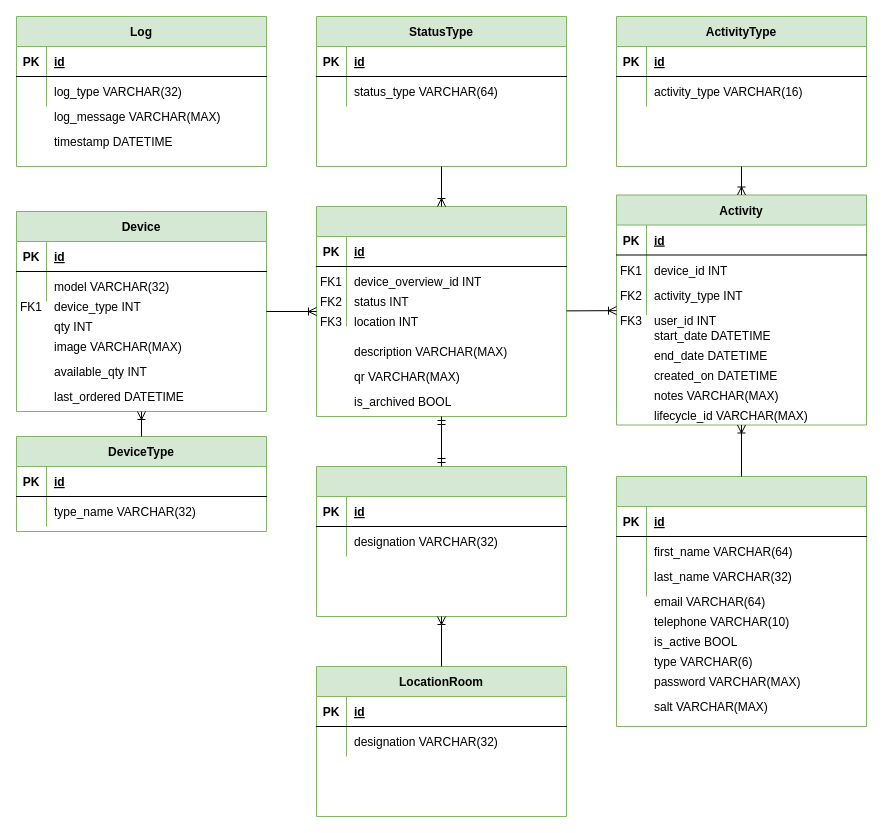
Some shapes in this 883 by 833 pixel diagram are drawn without their labels. Here are the shapes that lost their labels. From the top down, the box of each, then its label:
(316, 206, 566, 416): SingleDevice
(316, 466, 566, 616): LocationCupboard
(616, 476, 866, 726): User
